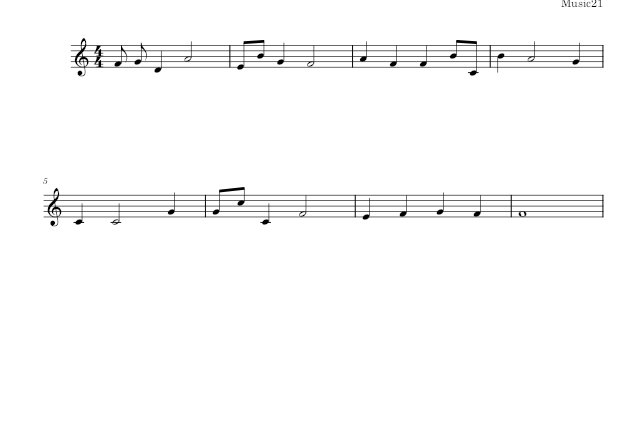Treble Clef: (71, 31, 93, 82), (45, 187, 66, 236)
